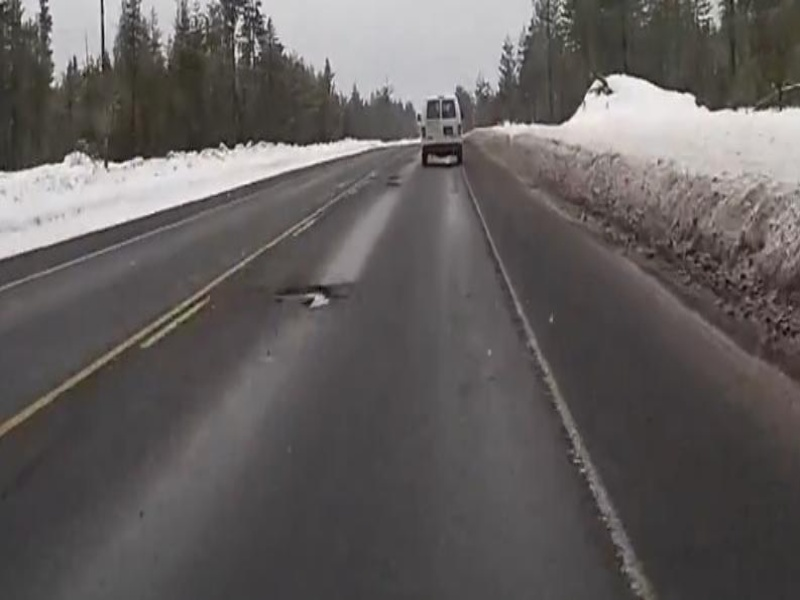pothole: (278, 283, 333, 316)
